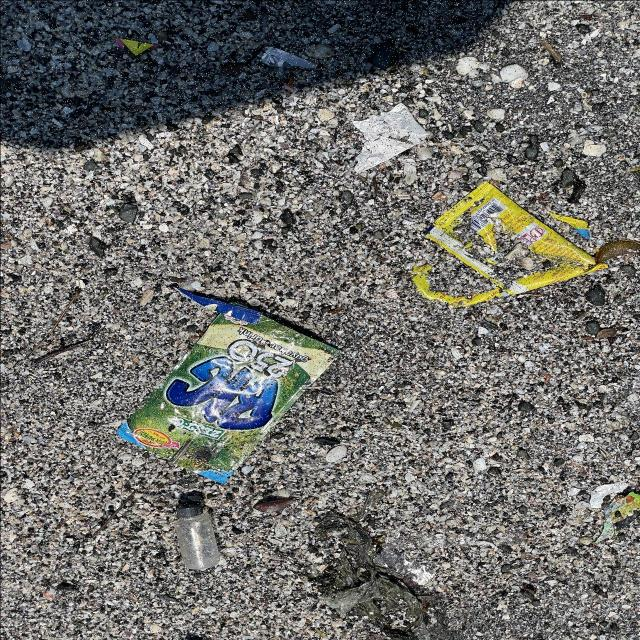plastic_waste: (112, 305, 340, 483), (412, 179, 609, 305), (173, 501, 222, 569), (598, 487, 640, 544)
